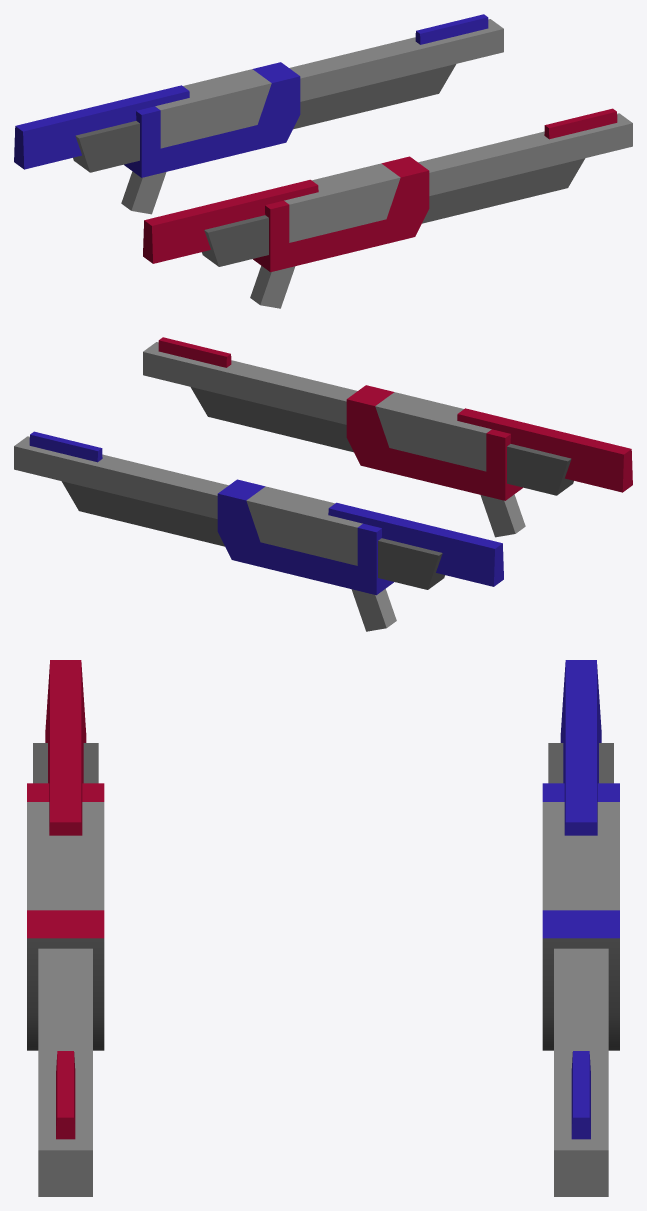
The model's file is MechUnitRifle.fbx.
3 renders of one model, top to bottom at view 1: azimuth 30°, elevation 25°; view 2: azimuth 150°, elevation 25°; view 3: azimuth 270°, elevation 25°, orthographic. The views are drawn at different scales.
Visible parts, largest first — view 1: MechRifleRed, MechRifleBlue; view 2: MechRifleRed, MechRifleBlue; view 3: MechRifleRed, MechRifleBlue.
Part boxes in pixels (x1,y1,x2,y2): MechRifleRed: [143, 108, 632, 308]; MechRifleBlue: [14, 14, 503, 214]; MechRifleRed: [143, 337, 632, 537]; MechRifleBlue: [14, 431, 503, 631]; MechRifleRed: [27, 660, 104, 1196]; MechRifleBlue: [542, 660, 619, 1196].
Size of the model in its own units: 2.14 by 0.4842 by 1.15.
